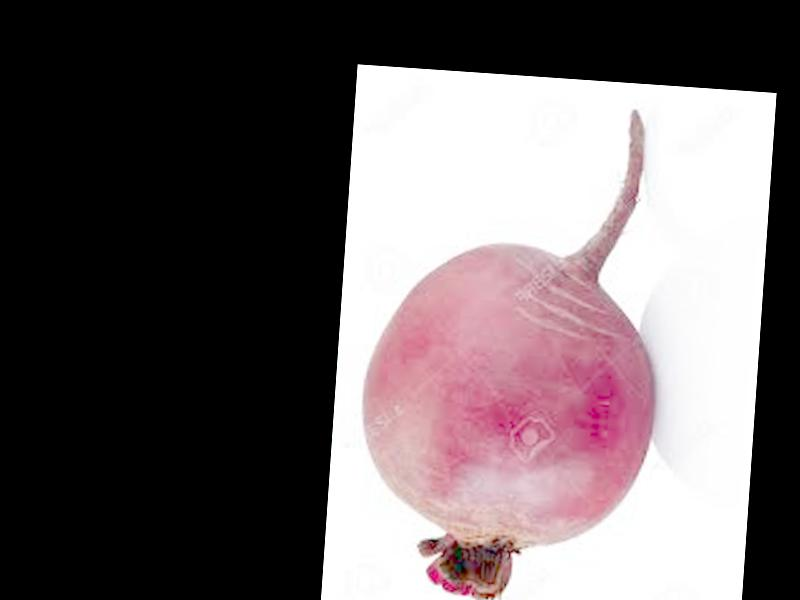Beet: (352, 92, 674, 600)
